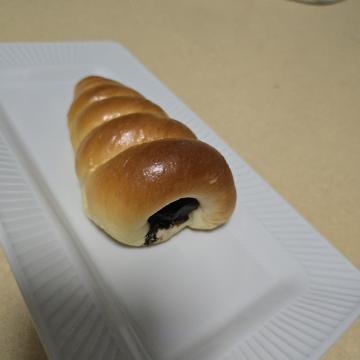cream horn: (61, 118, 262, 306)
